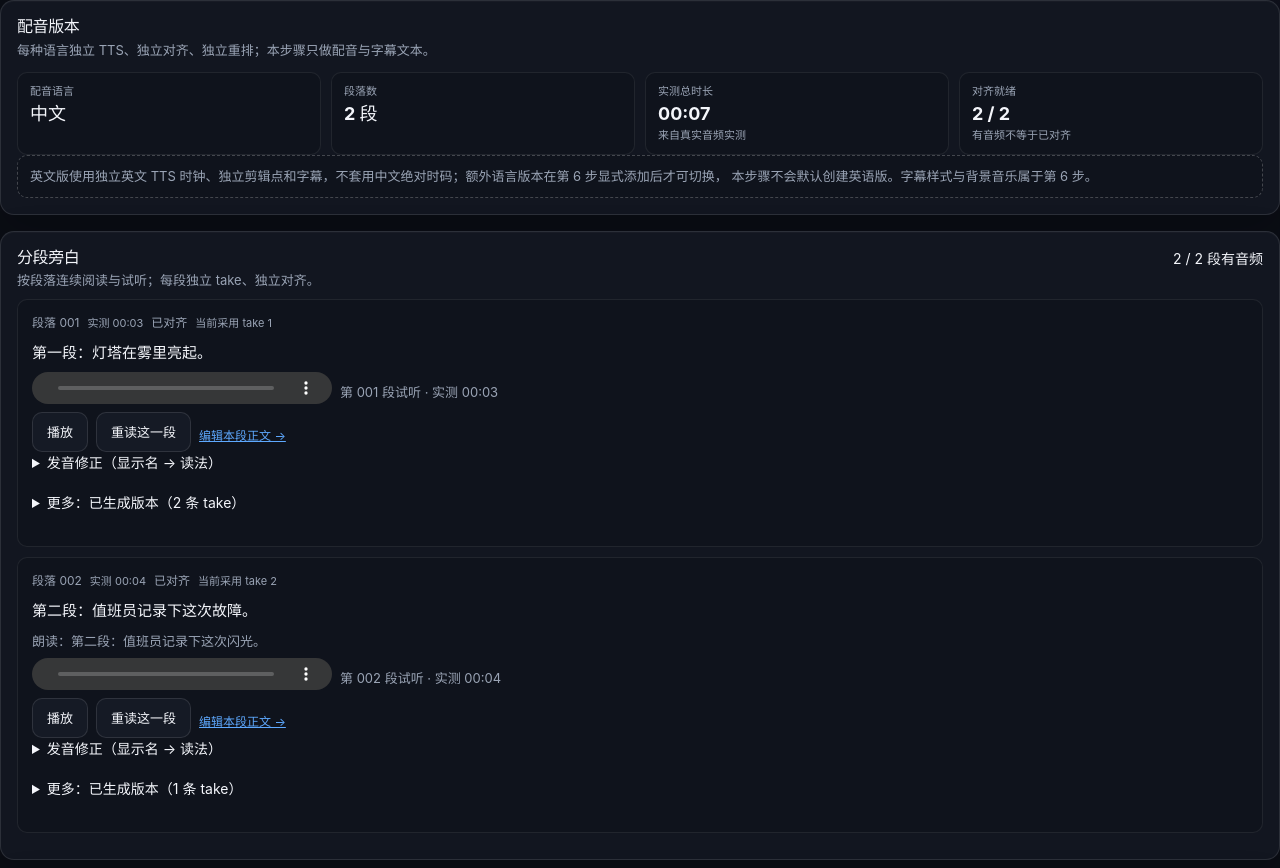
Test case: audio page — narration reading and audition › adopts an existing take through the real command and reports the human adoption
Expected: the text "第一段：灯塔在雾里亮起。" is shown, [32,343,212,362]
Click the heading "更多：已生成版本（2 条 take）": (146, 502) [47,494,245,511]
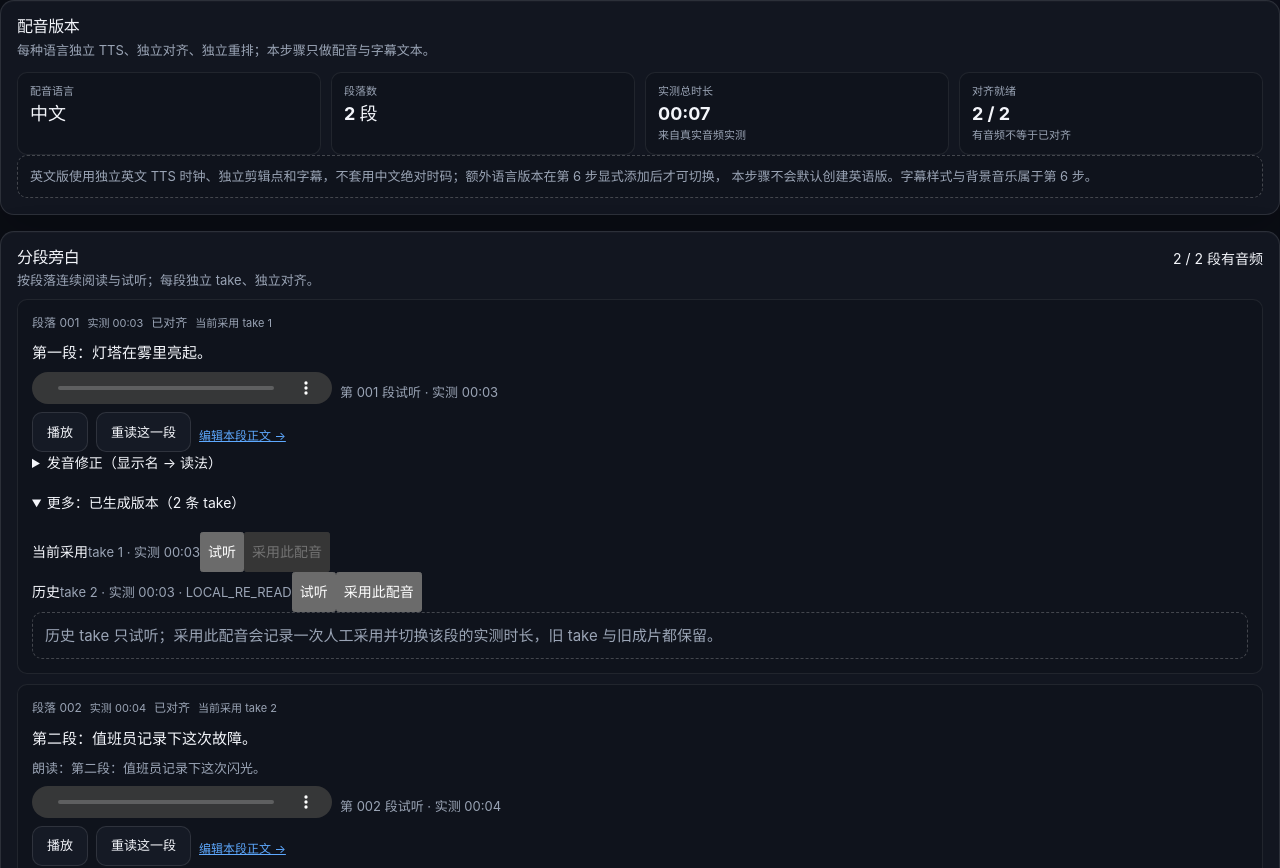
Click the button "采用此配音" in the row of "· LOCAL_RE_READ": (379, 592) [336,572,422,612]
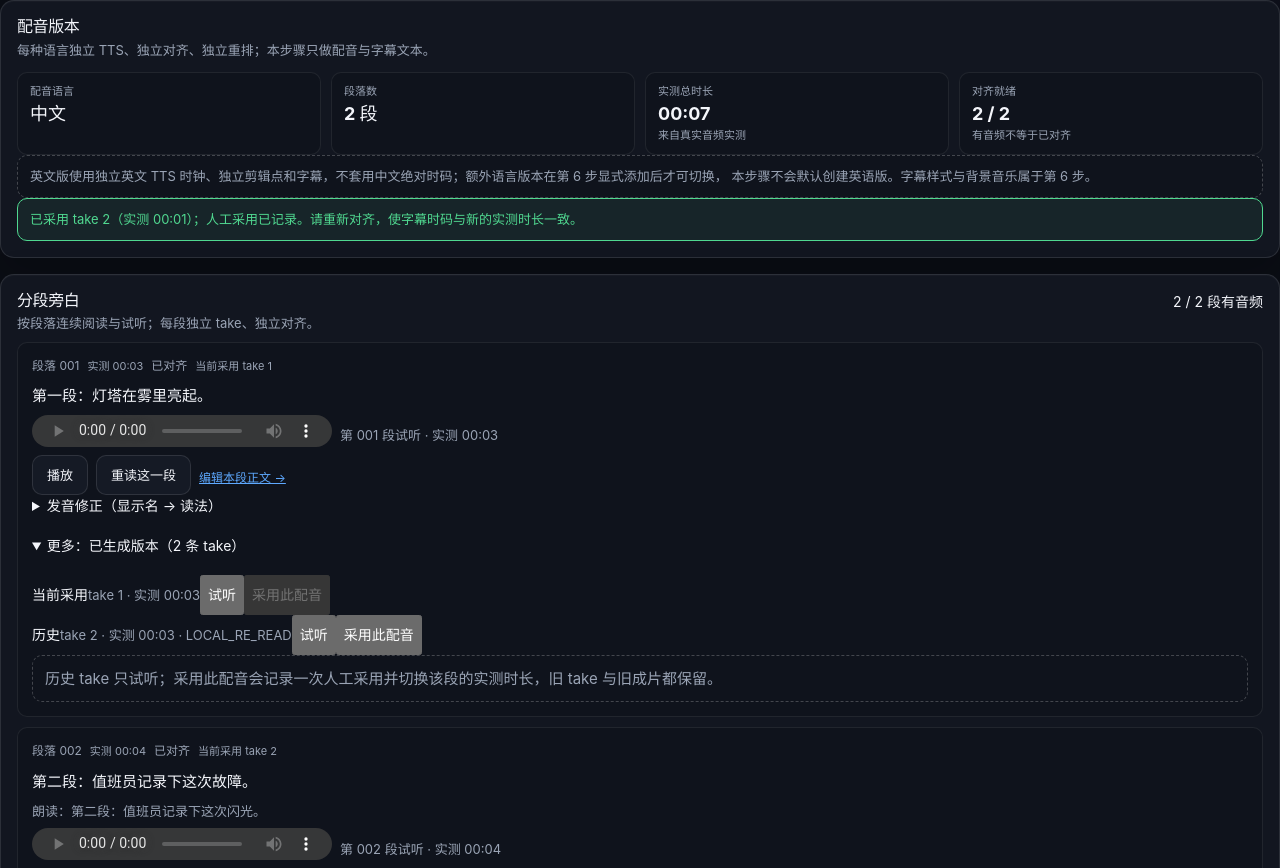
Expected: the text "已采用 take 2（实测 00:01）；人工采用已记录。请重新对齐，使字幕时码与新的实测时长一致。" is shown, [17,198,1263,240]
